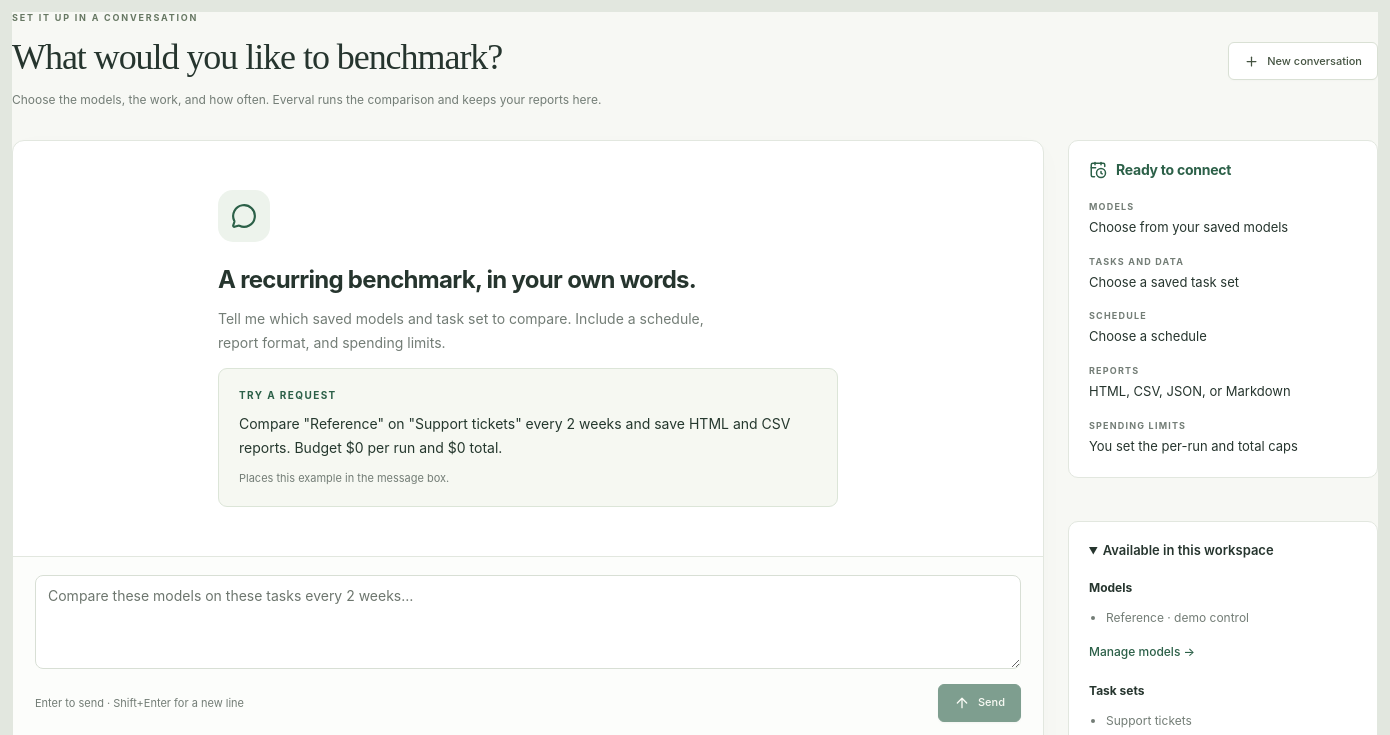
it: conversational benchmark setup › retains the user request on rejection so it can be corrected
Type "Compare missing-model every 2 weeks." into the text box named "Your benchmark request" at (528, 622), box [35, 575, 1021, 669]
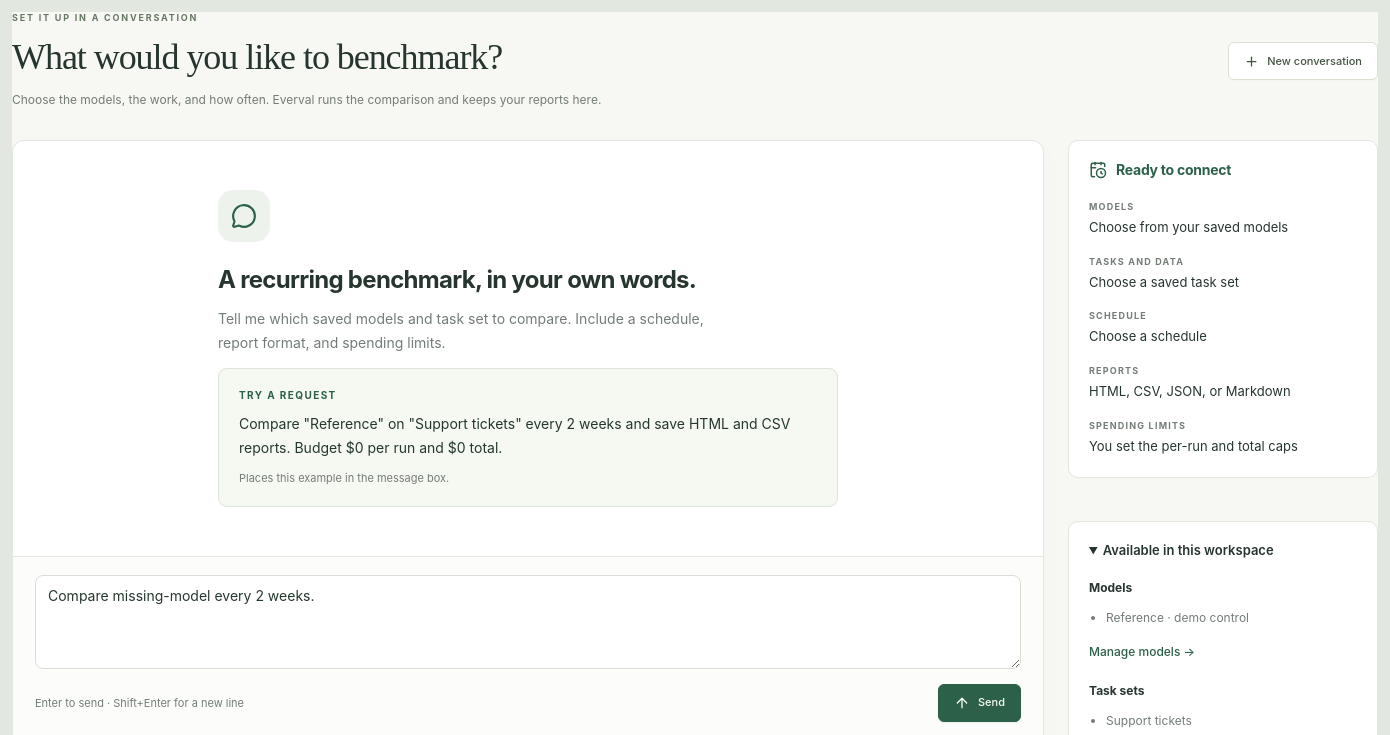
Click the button "Send" at (980, 703), box [938, 684, 1021, 722]
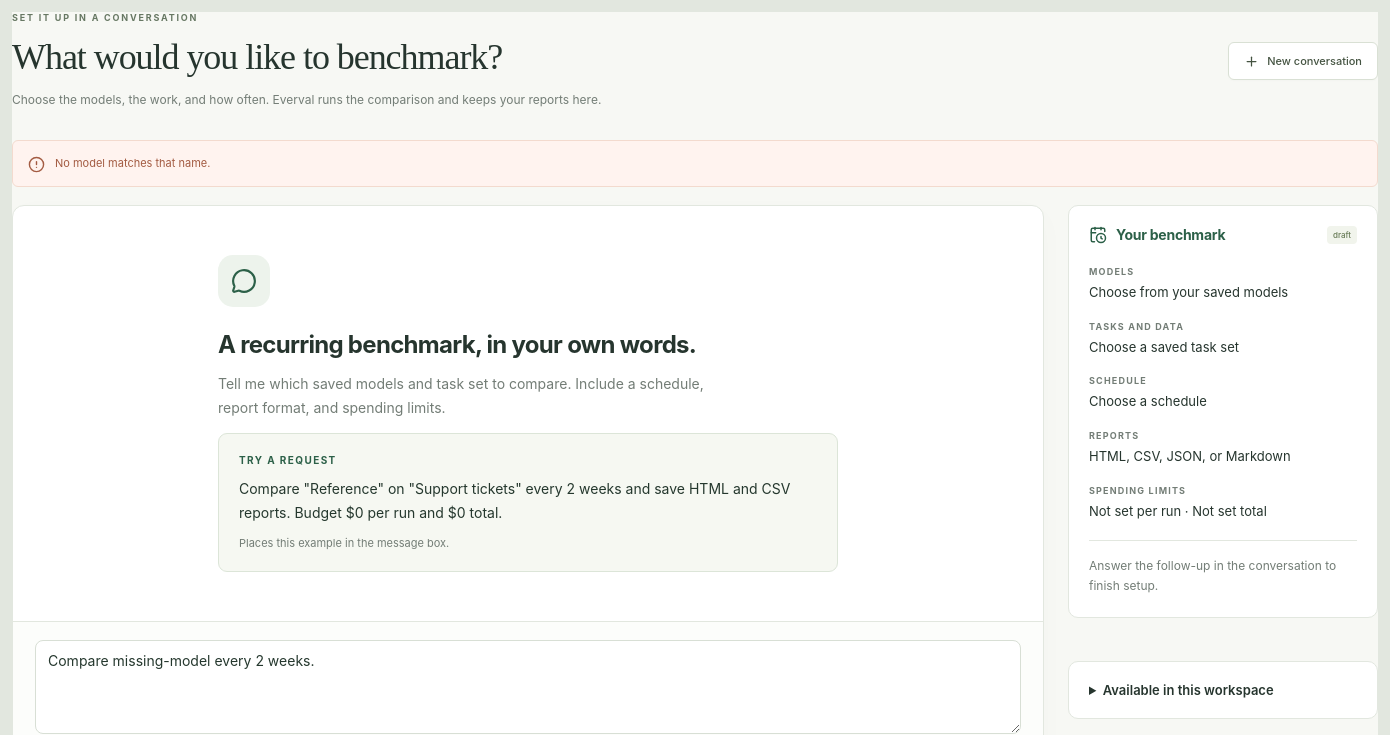
Expected: the message "No model matches that name." is shown, [12, 140, 1378, 187]
Expected: the text "No model matches that name." is shown, [55, 154, 210, 173]
